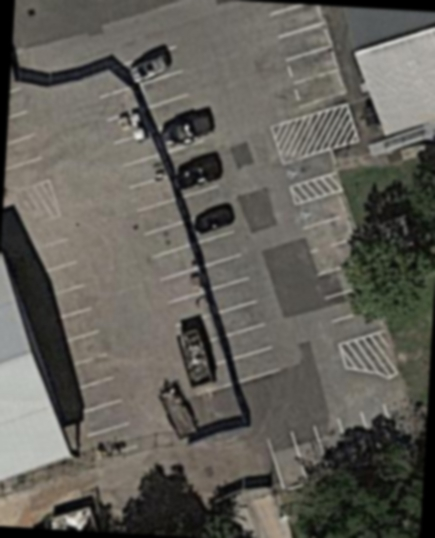parkingspot: (127, 44, 284, 387), (18, 233, 142, 464), (109, 132, 214, 330), (291, 190, 387, 349), (263, 400, 403, 493), (262, 2, 349, 114), (4, 84, 53, 197), (278, 148, 339, 190), (94, 85, 144, 125)
